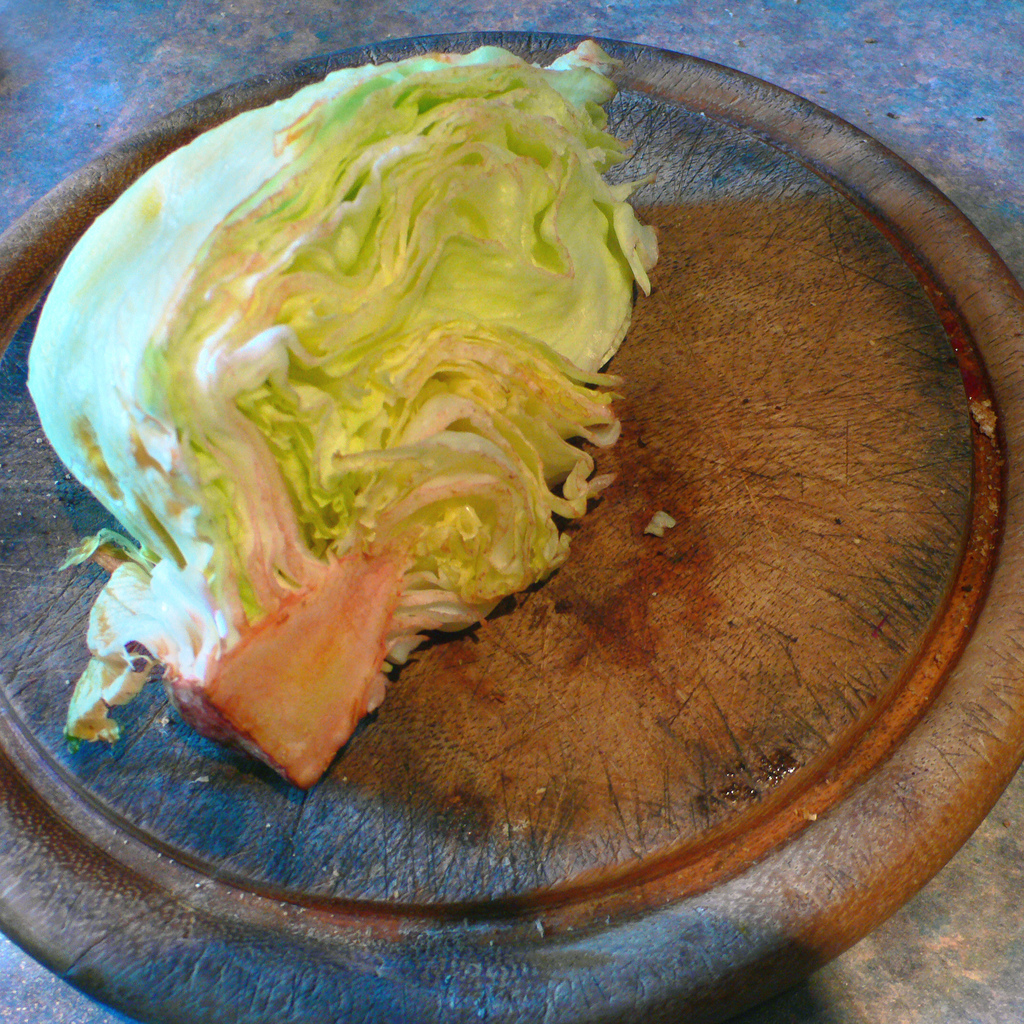chopped lettuce: (48, 65, 691, 779)
